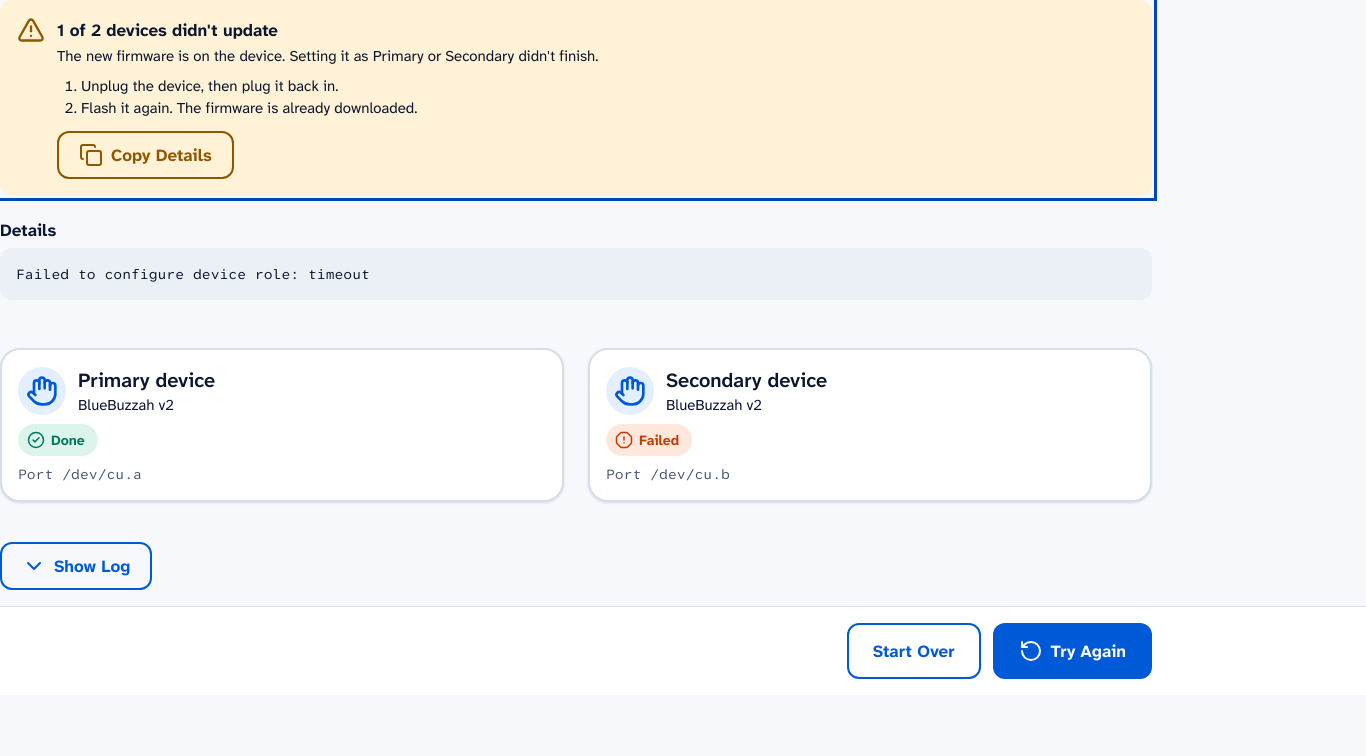
InstallationProgress › keeps the full log viewable, copyable and savable when a device fails
Expected: the text "1 of 2 devices didn't update" is shown, [57, 19, 278, 41]
Click the button "Show Log": {"x": 76, "y": 566} [0, 542, 152, 590]
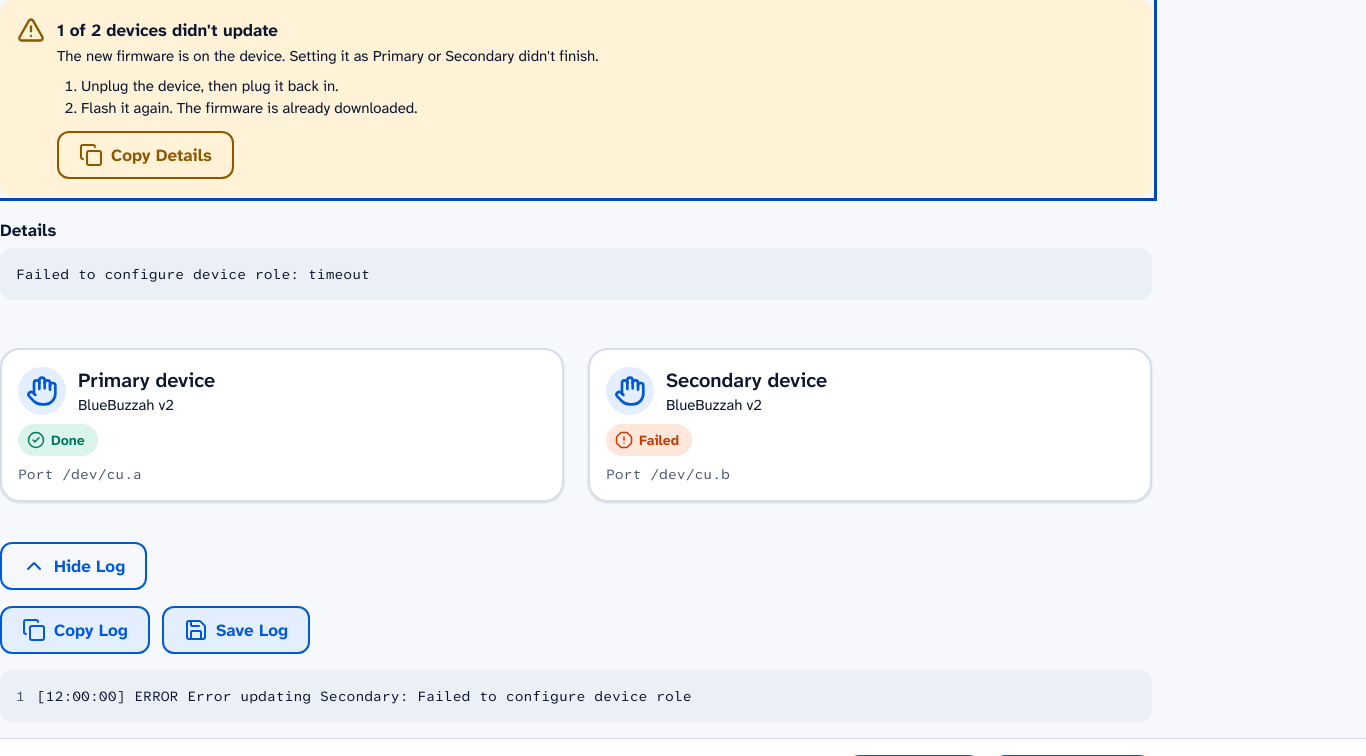
Expected: the text "[12:00:00] ERROR Error updating Secondary: Failed to configure device role" is shown, [37, 686, 692, 706]
Expected: the button "Copy Log" is shown, [0, 606, 150, 654]
Expected: the button "Save Log" is shown, [162, 606, 310, 654]
